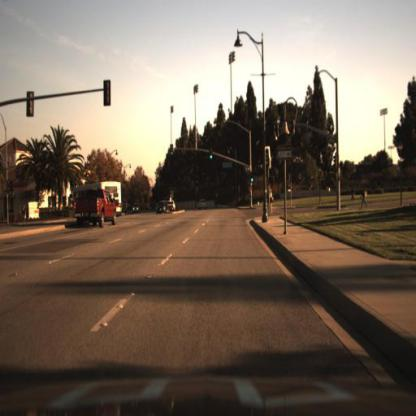car: (73, 186, 119, 231), (103, 179, 123, 211), (156, 198, 171, 218), (155, 201, 170, 216), (198, 195, 209, 213), (199, 198, 209, 212)
pedestrian: (267, 186, 276, 215), (362, 185, 372, 211), (269, 188, 275, 219), (360, 186, 368, 209), (352, 185, 356, 202)
trafficLight-Green: (208, 146, 216, 165), (170, 141, 177, 162), (169, 141, 176, 161), (249, 171, 255, 187)
